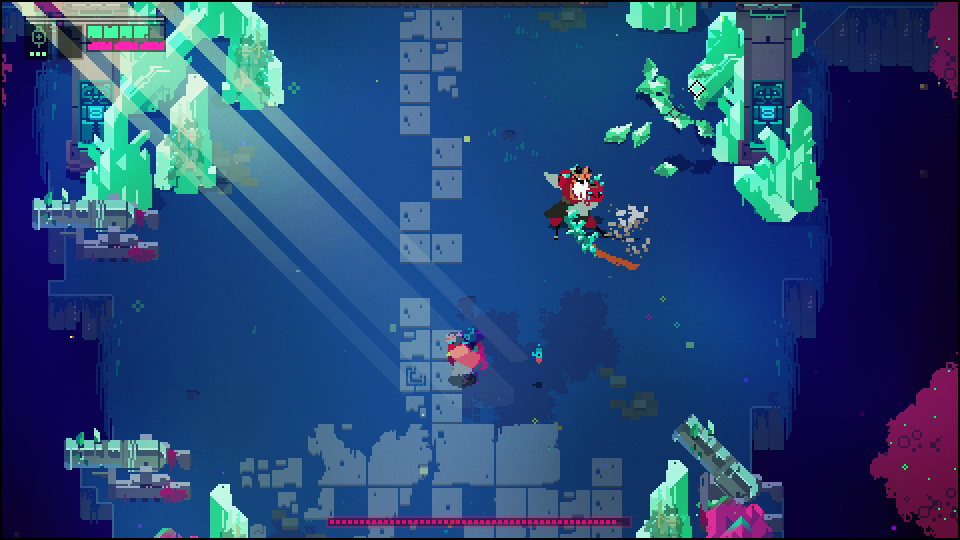hanged_man: (537, 162, 617, 266)
player: (442, 325, 487, 387)
